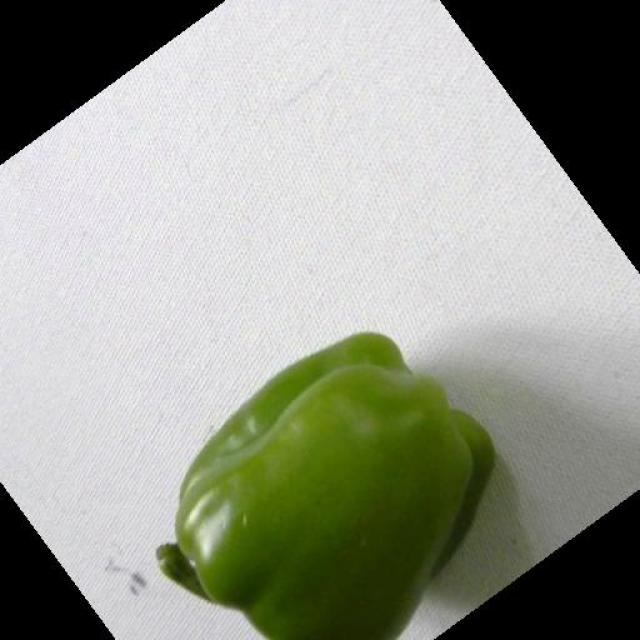Fresh_Capsicum: (145, 333, 469, 640)
